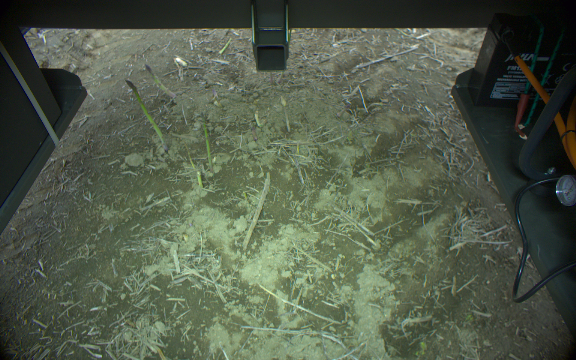aspa: (121, 78, 167, 147), (143, 61, 181, 103), (198, 116, 216, 172), (193, 166, 205, 190), (220, 35, 232, 56)
